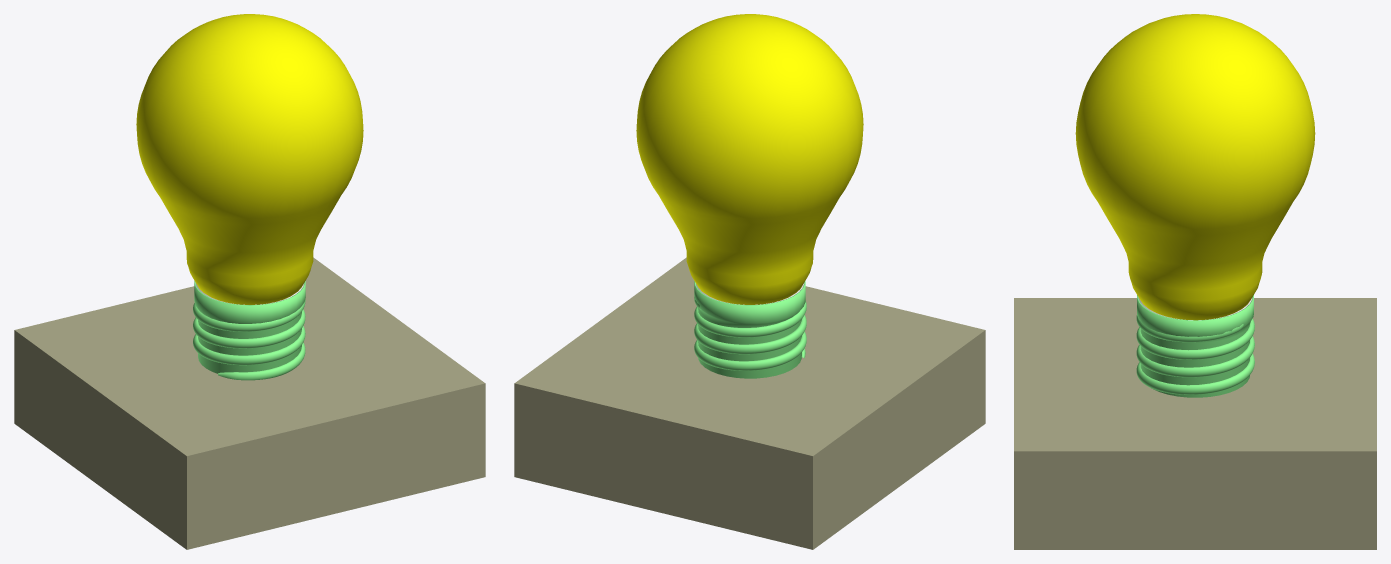
File: bulb_box_on.gltf
3 renders of one model, left to right at view 1: azimuth 30°, elevation 25°; view 2: azimuth 150°, elevation 25°; view 3: azimuth 270°, elevation 25°, orthographic. The views are drawn at different scales.
Visible parts, largest first — view 1: Cube.004, bulb.003, screwcap.003; view 2: Cube.004, bulb.003, screwcap.003; view 3: Cube.004, bulb.003, screwcap.003.
Boxes of the visible parts, x1=… form: Cube.004: x1=14, y1=257, x2=485, y2=549; bulb.003: x1=136, y1=14, x2=363, y2=304; screwcap.003: x1=193, y1=281, x2=305, y2=380; Cube.004: x1=514, y1=257, x2=985, y2=549; bulb.003: x1=636, y1=14, x2=863, y2=304; screwcap.003: x1=694, y1=281, x2=806, y2=378; Cube.004: x1=1014, y1=298, x2=1376, y2=549; bulb.003: x1=1075, y1=14, x2=1315, y2=320; screwcap.003: x1=1136, y1=295, x2=1254, y2=397.
Size of the model in its own units: 0.2 by 0.2726 by 0.2.
